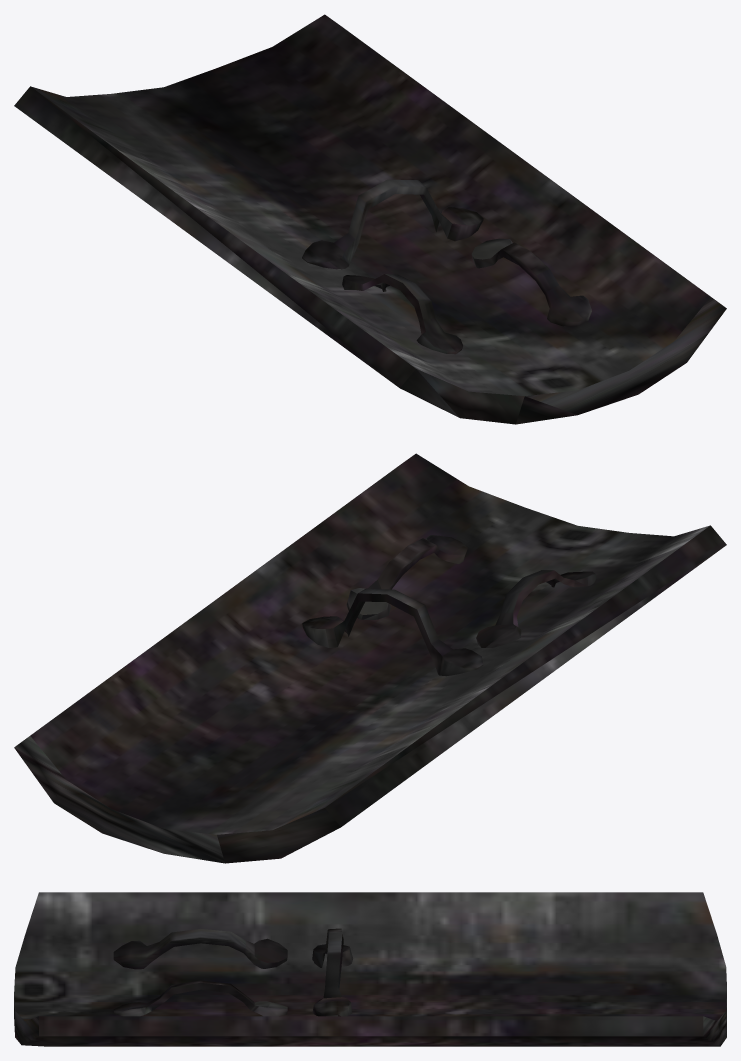
3 renders of one model, top to bottom at view 1: azimuth 30°, elevation 25°; view 2: azimuth 150°, elevation 25°; view 3: azimuth 270°, elevation 25°, orthographic. The views are drawn at different scales.
Visible parts, largest first — view 1: mesh_0; view 2: mesh_0; view 3: mesh_0.
Boxes of the visible parts, left/top/right/bottom form: mesh_0: left=14, top=14, right=726, bottom=424; mesh_0: left=14, top=453, right=726, bottom=863; mesh_0: left=14, top=892, right=726, bottom=1046.
Size of the model in its own units: 23.09 by 7.84 by 50.61.
Materials: 1 (1 with a texture image).
